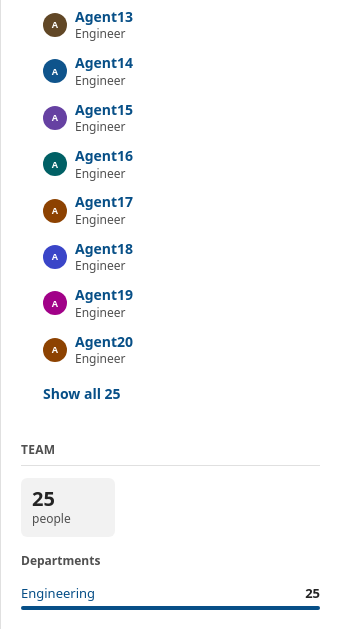
EmployeeDetailsPanel › with a team › lists the first 20 direct reports, then Show all, which lists the rest with the focus on the first of them
(page scrolled)
Click the button "Show all 25": (82, 394) [43,372,121,416]
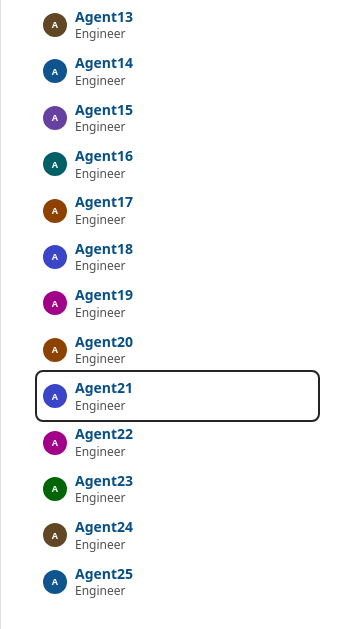
expect the button "Show all" is gone: met
